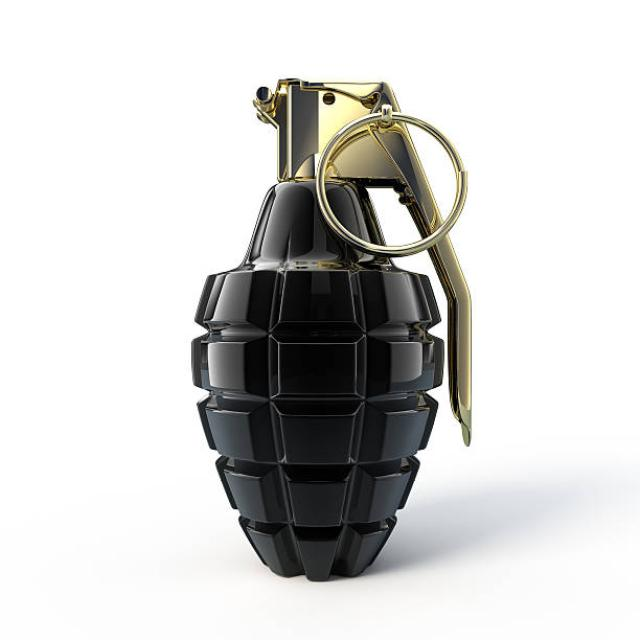grenade: (185, 63, 498, 594)
